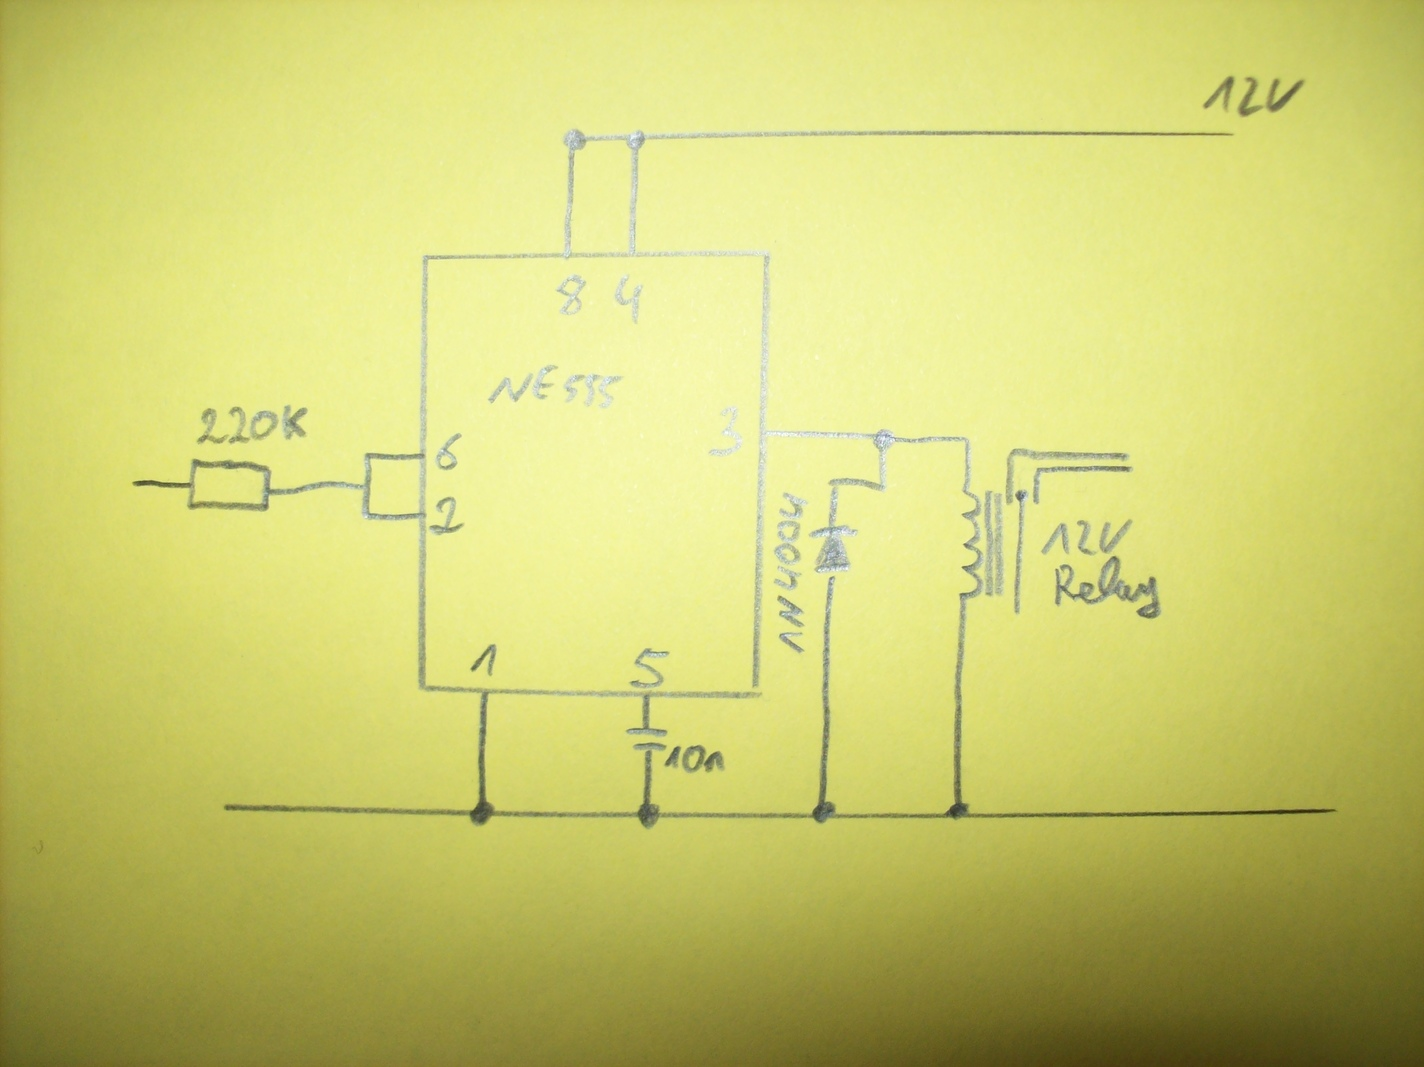capacitor.unpolarized: (624, 724, 670, 755)
diode: (808, 522, 862, 579)
integrated_cricuit.ne555: (409, 240, 774, 709)
junction: (633, 797, 666, 831), (466, 798, 497, 831), (810, 798, 840, 828), (560, 124, 592, 154), (869, 426, 897, 454), (620, 126, 650, 151), (942, 800, 974, 824), (1003, 443, 1024, 464), (872, 475, 892, 497), (356, 474, 376, 494), (354, 505, 374, 526), (955, 432, 977, 449), (823, 474, 845, 491), (1031, 463, 1048, 481), (359, 447, 378, 463)
relay: (956, 482, 1043, 619)
resistor: (182, 457, 278, 520)
terminal: (216, 798, 243, 818), (1219, 124, 1244, 145), (1006, 603, 1031, 621), (1322, 802, 1344, 822), (125, 472, 145, 494), (1115, 447, 1135, 463), (1119, 463, 1141, 477)
text: (487, 361, 624, 412), (1054, 555, 1162, 620), (773, 489, 810, 655), (195, 402, 311, 446), (1199, 73, 1305, 120), (1041, 518, 1135, 557), (704, 403, 746, 460), (664, 743, 727, 774), (629, 646, 672, 690), (611, 272, 645, 327), (552, 270, 588, 318), (427, 493, 466, 537), (431, 432, 465, 472), (469, 641, 499, 680)
